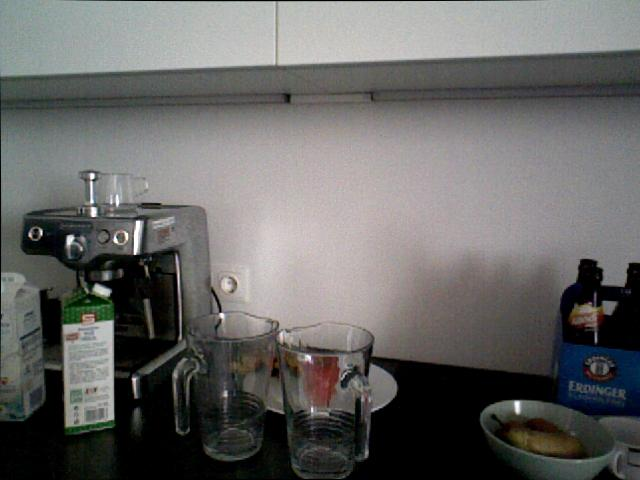bench: (60, 270, 116, 436), (0, 274, 47, 422), (574, 259, 604, 345), (618, 261, 640, 348)
bicycle: (283, 347, 349, 405)
bird: (478, 398, 628, 479)
handbag: (171, 310, 279, 461), (275, 321, 374, 479), (596, 412, 640, 480), (88, 170, 149, 218)
motorcycle: (205, 339, 309, 383)
